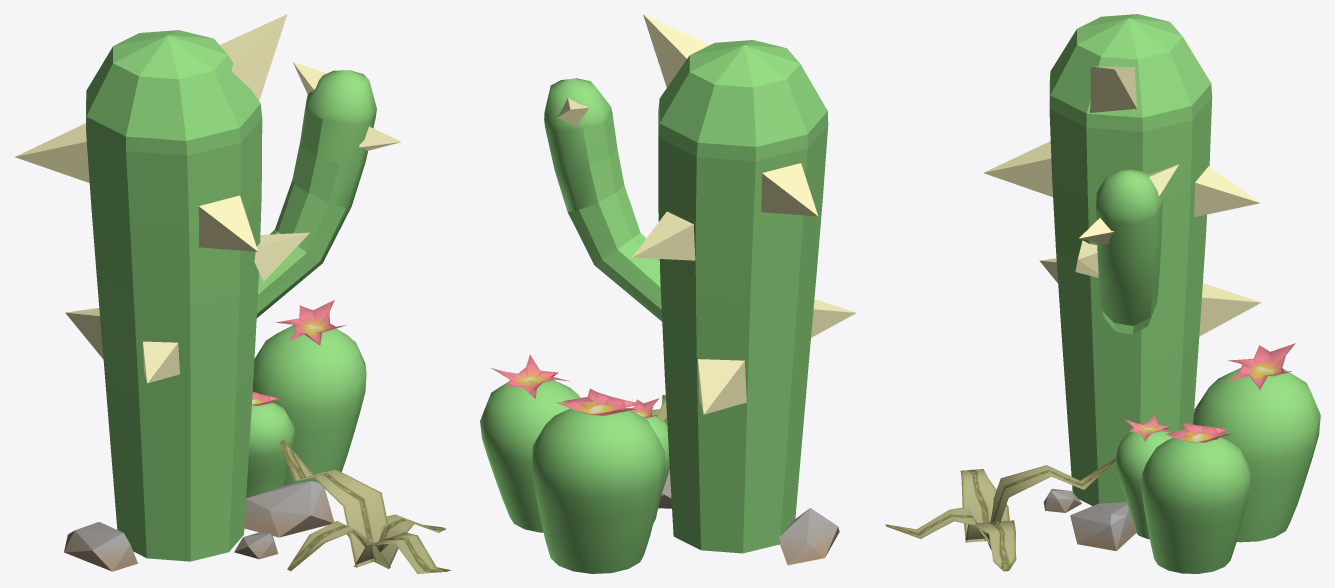
File: Desert collection 1.fbx
3 renders of one model, left to right at view 1: azimuth 30°, elevation 25°; view 2: azimuth 150°, elevation 25°; view 3: azimuth 270°, elevation 25°, orthographic. The views are drawn at different scales.
Visible parts, largest first — view 1: Desert Collection 1; view 2: Desert Collection 1; view 3: Desert Collection 1.
Boxes of the visible parts, x1,y1,x2,y2 form: Desert Collection 1: (15,14,450,573); Desert Collection 1: (480,14,856,573); Desert Collection 1: (885,14,1320,573).
Bounding box in the file's own units: 16.37 × 22.94 × 19.49.
